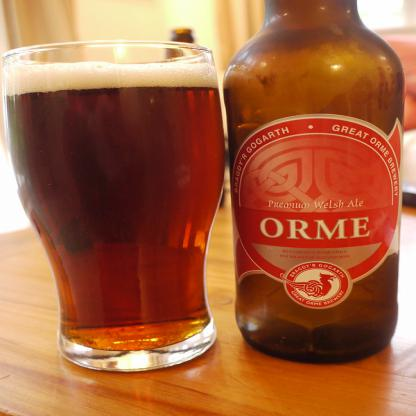drinking: (3, 40, 227, 372), (223, 0, 404, 366)
